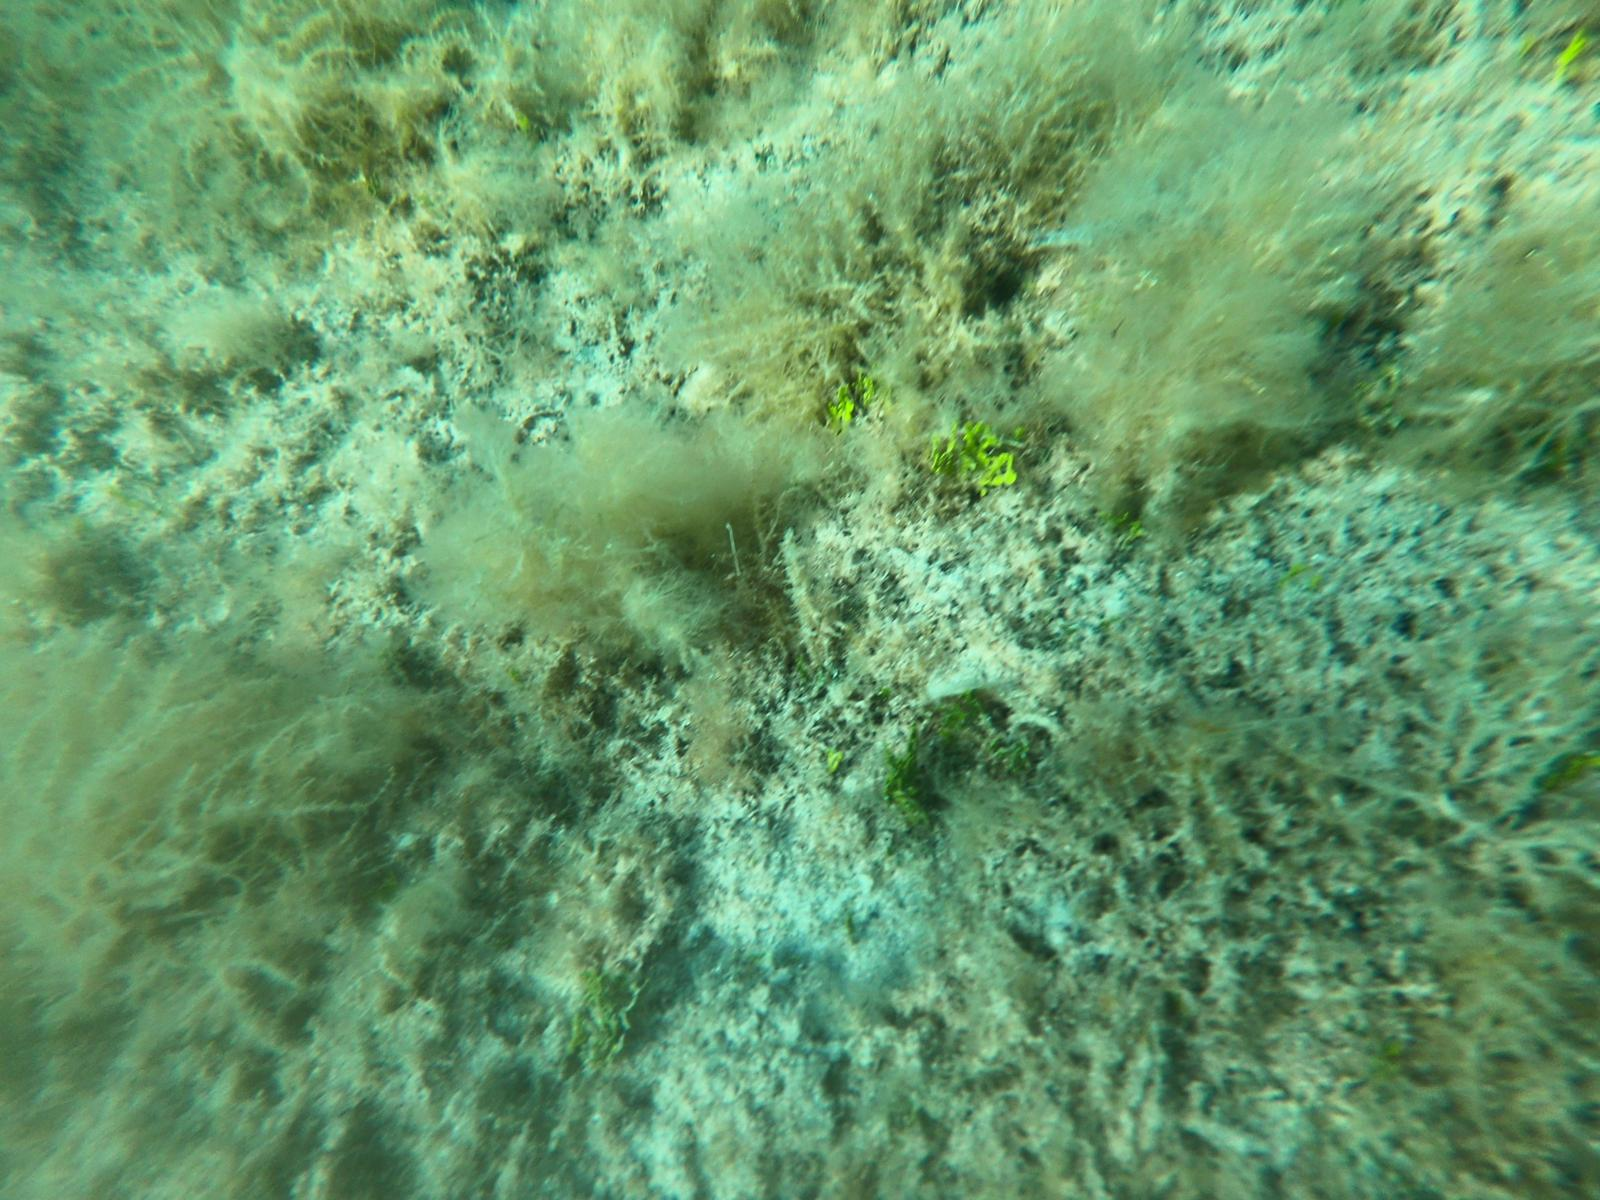halimeda: (935, 420, 1015, 492), (907, 695, 990, 745), (884, 742, 929, 826), (576, 959, 612, 1058), (826, 374, 881, 420)
